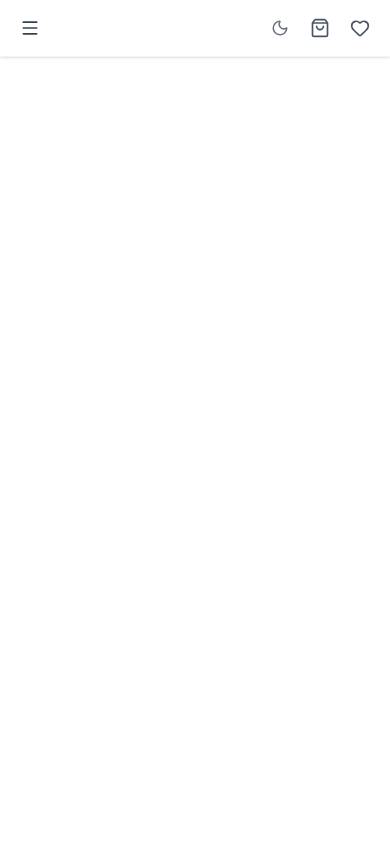
Test: Header › Menu hamburguesa movil › abre el menu movil al hacer clic en el hamburguesa
Step 1. Click the button named "Abrir menú" → (30, 28), box [12, 10, 48, 46]
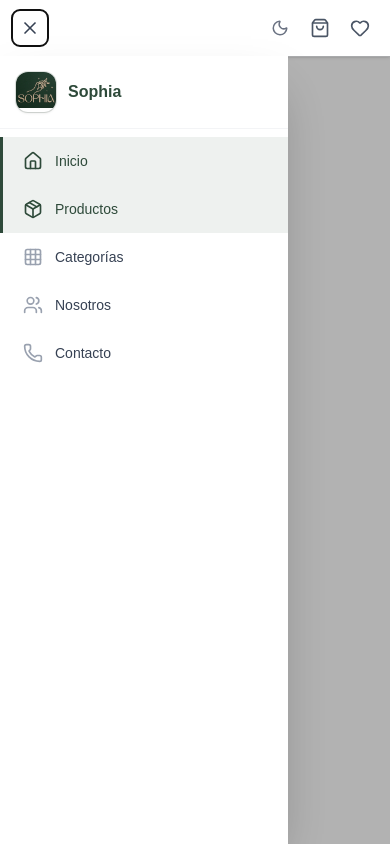
Now the button named "Cerrar menú" is shown, box [12, 10, 48, 46]
